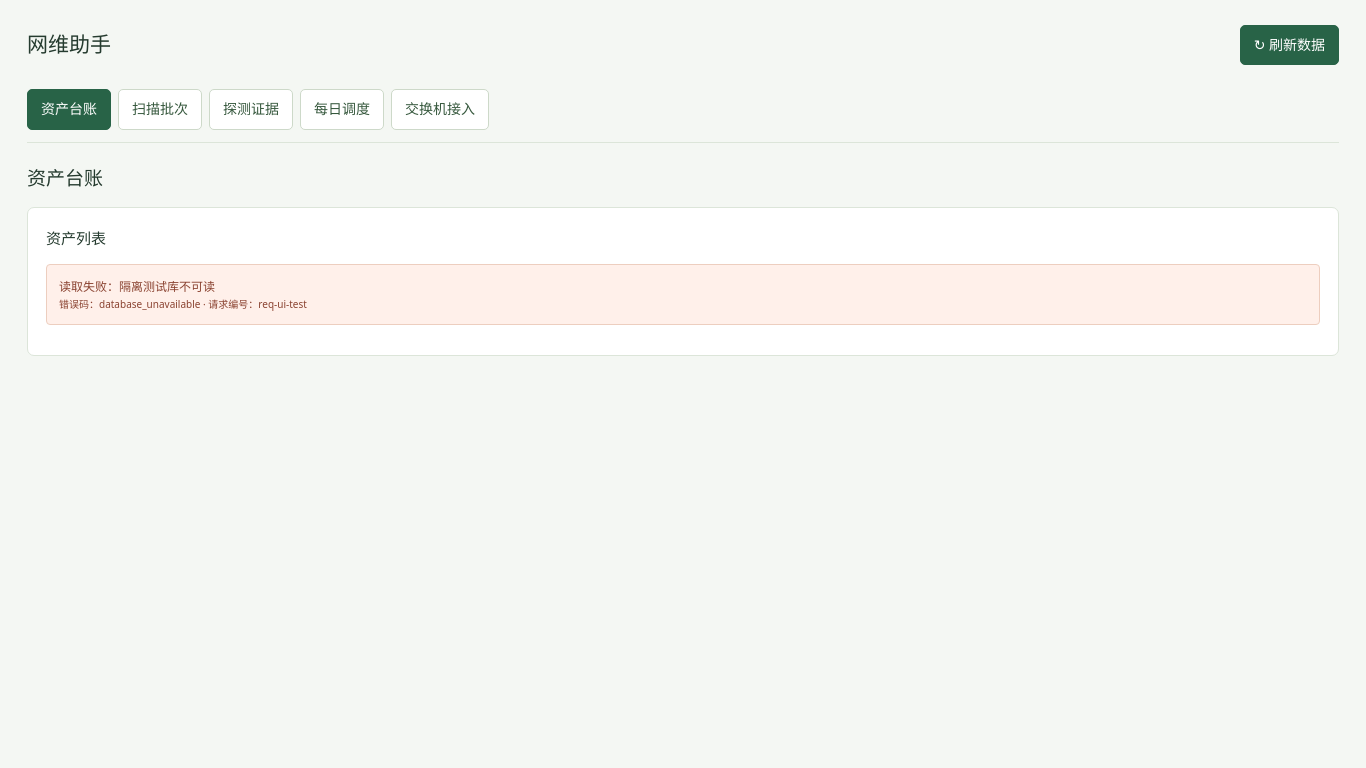
最小工作台真实读取语义（隔离响应） › 资产API失败显示错误及请求编号，不显示为没有资产，调度仍可独立阅读
This screenshot has width=1366, height=768.
Expected: the text "读取失败：隔离测试库不可读" is shown, [59,278,215,295]
Expected: the text "错误码：database_unavailable · 请求编号：req-ui-test" is shown, [59,297,307,311]
Step 1. Click the button "每日调度" → (342, 110), box [300,89,384,130]
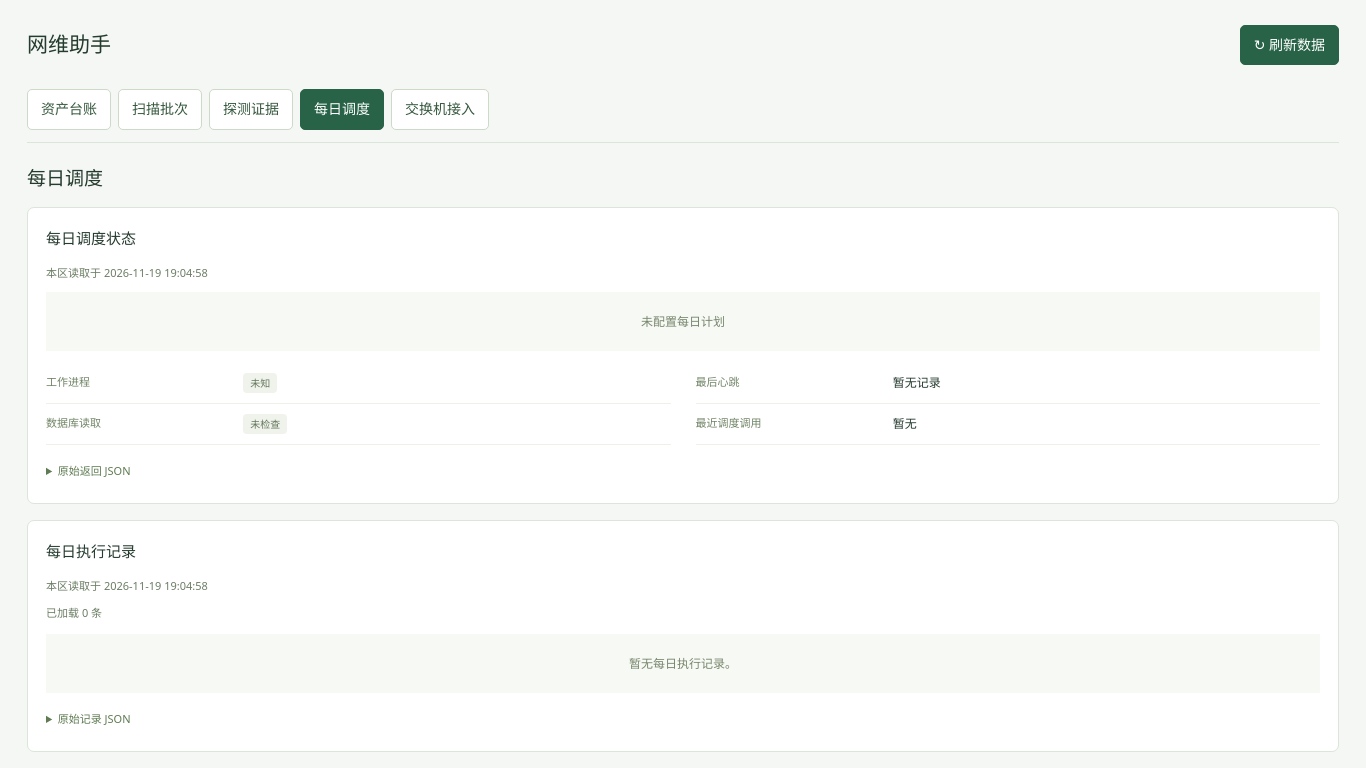
Expected: the text "未配置每日计划" is shown, [46,292,1320,351]
